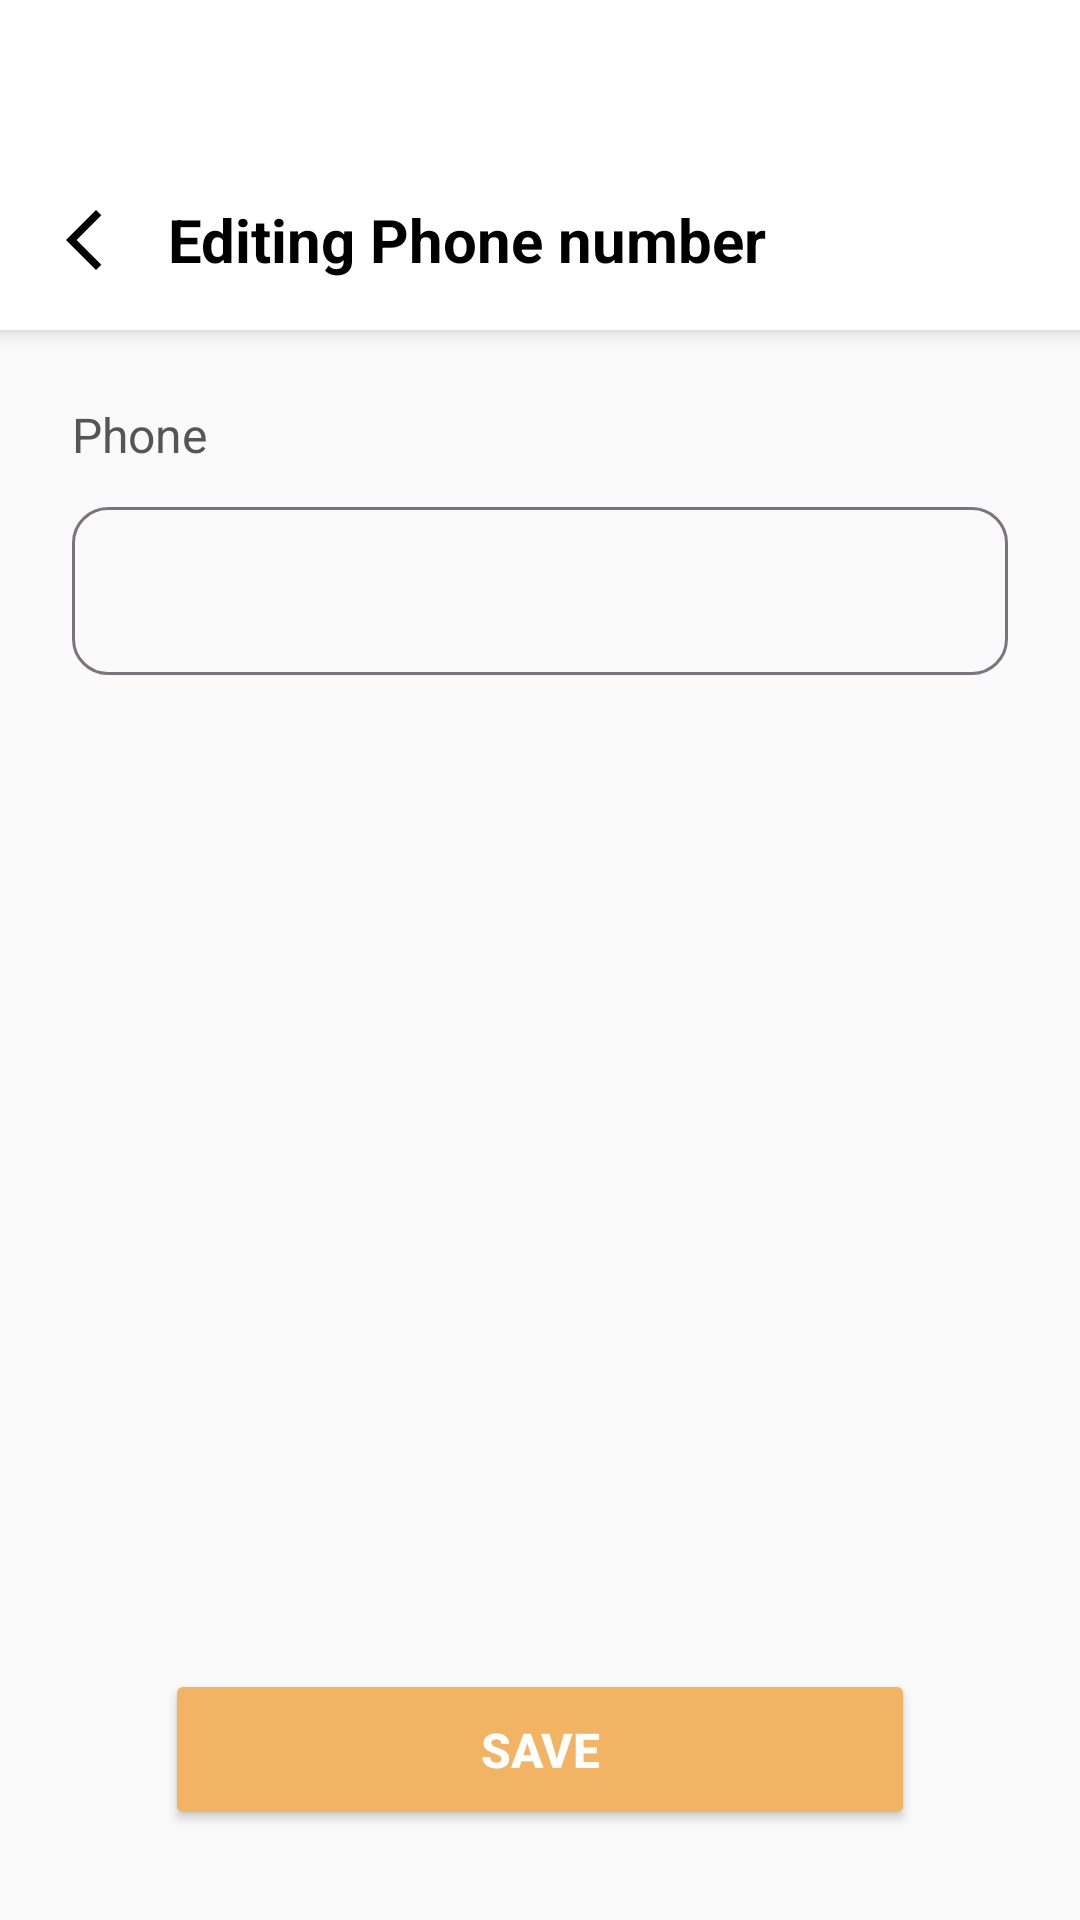

Icons on this 1080*1920 Android screen, each with its box as (x1=x1, y1=y1, x2=x2, y2=y2):
Back: (x1=66, y1=210, x2=101, y2=270)
